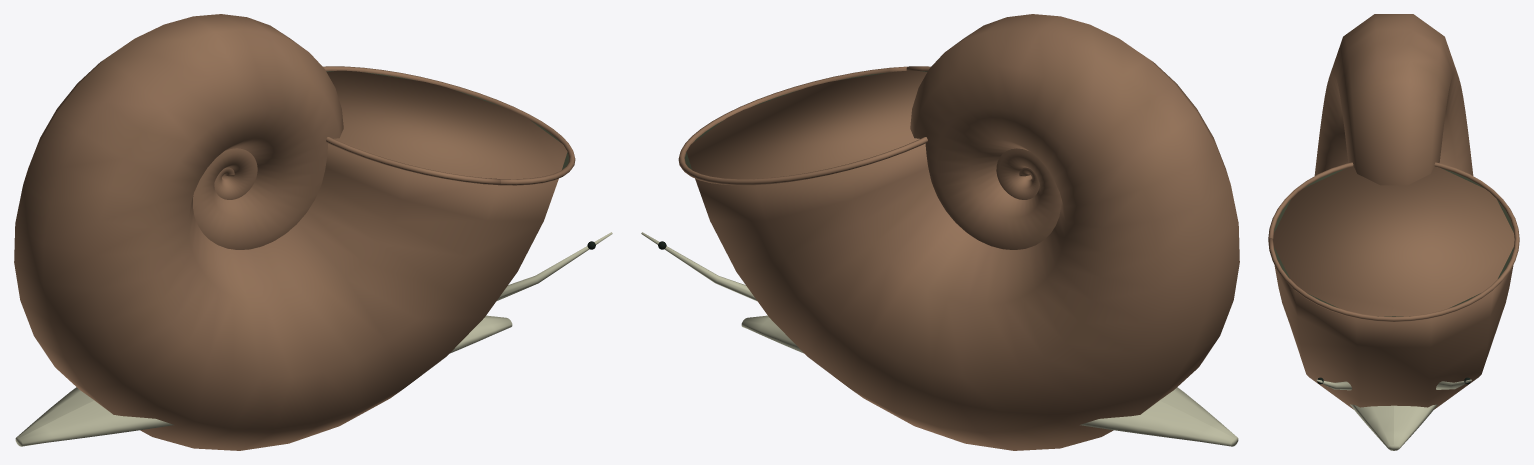
The model's file is ramshorn-mobile.glb.
3 renders of one model, left to right at view 1: azimuth 30°, elevation 25°; view 2: azimuth 150°, elevation 25°; view 3: azimuth 270°, elevation 25°, orthographic. The views are drawn at different scales.
Parts seen in each view (by area): view 1: continuous-planispiral-shell, muscular-foot, aperture-lip, cephalic-tentacle; view 2: continuous-planispiral-shell, muscular-foot, aperture-lip, cephalic-tentacle; view 3: continuous-planispiral-shell, aperture-lip, muscular-foot, recessed-aperture, cephalic-tentacle.
Boxes of the visible parts, x1,y1,x2,y2 form: continuous-planispiral-shell: (14, 14, 567, 450); muscular-foot: (15, 315, 512, 446); aperture-lip: (323, 66, 575, 185); cephalic-tentacle: (497, 232, 612, 300); continuous-planispiral-shell: (686, 14, 1239, 450); muscular-foot: (741, 315, 1238, 446); aperture-lip: (678, 66, 930, 185); cephalic-tentacle: (641, 232, 756, 300); continuous-planispiral-shell: (1273, 14, 1514, 409); aperture-lip: (1268, 162, 1519, 321); muscular-foot: (1350, 404, 1437, 450); recessed-aperture: (1274, 168, 1513, 316); cephalic-tentacle: (1316, 379, 1471, 390).
Bounding box in the file's own units: 0.5905 × 0.4358 × 0.294.
